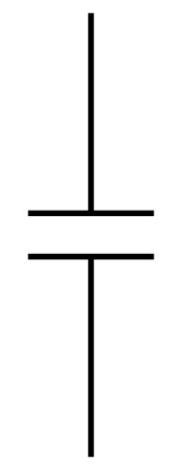Capacitor: (15, 152, 179, 297)
